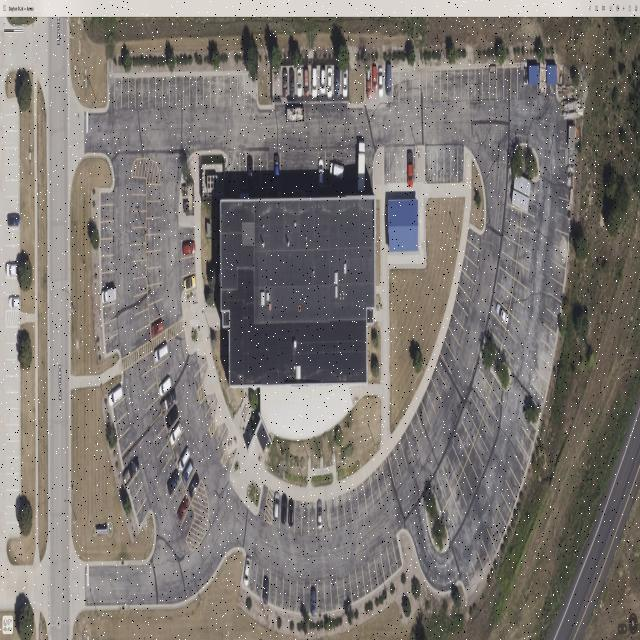Empty: (168, 415, 184, 449), (204, 398, 218, 430), (194, 362, 208, 392), (216, 427, 228, 461), (212, 423, 226, 451), (224, 447, 237, 476), (201, 394, 216, 418), (180, 256, 195, 278), (105, 334, 120, 355), (322, 500, 331, 535), (103, 302, 117, 324), (104, 319, 118, 341), (101, 271, 116, 291), (294, 500, 302, 536), (301, 501, 309, 536), (101, 237, 114, 257), (180, 225, 195, 242), (100, 220, 113, 239), (309, 501, 316, 536), (260, 153, 267, 188), (203, 77, 211, 107), (230, 76, 238, 106), (267, 153, 274, 187), (240, 155, 247, 189), (101, 204, 114, 222), (101, 255, 114, 273), (217, 76, 224, 107), (237, 76, 244, 107), (190, 76, 197, 107), (183, 76, 190, 107), (176, 77, 183, 108), (224, 76, 231, 106), (197, 77, 204, 107)
Parked: (122, 454, 140, 488), (175, 492, 191, 528), (160, 387, 178, 418), (166, 467, 182, 501), (181, 455, 196, 491), (186, 468, 201, 504), (164, 401, 180, 434), (492, 298, 509, 329), (177, 443, 192, 478), (158, 372, 174, 402), (108, 383, 125, 408), (279, 491, 289, 532), (153, 343, 169, 368), (150, 315, 166, 339), (101, 286, 117, 307), (407, 146, 415, 186), (181, 273, 196, 294), (262, 570, 271, 604), (180, 239, 195, 259), (243, 555, 252, 588), (316, 500, 324, 536), (287, 498, 295, 534), (273, 152, 281, 188), (246, 154, 254, 189), (311, 582, 318, 615)
